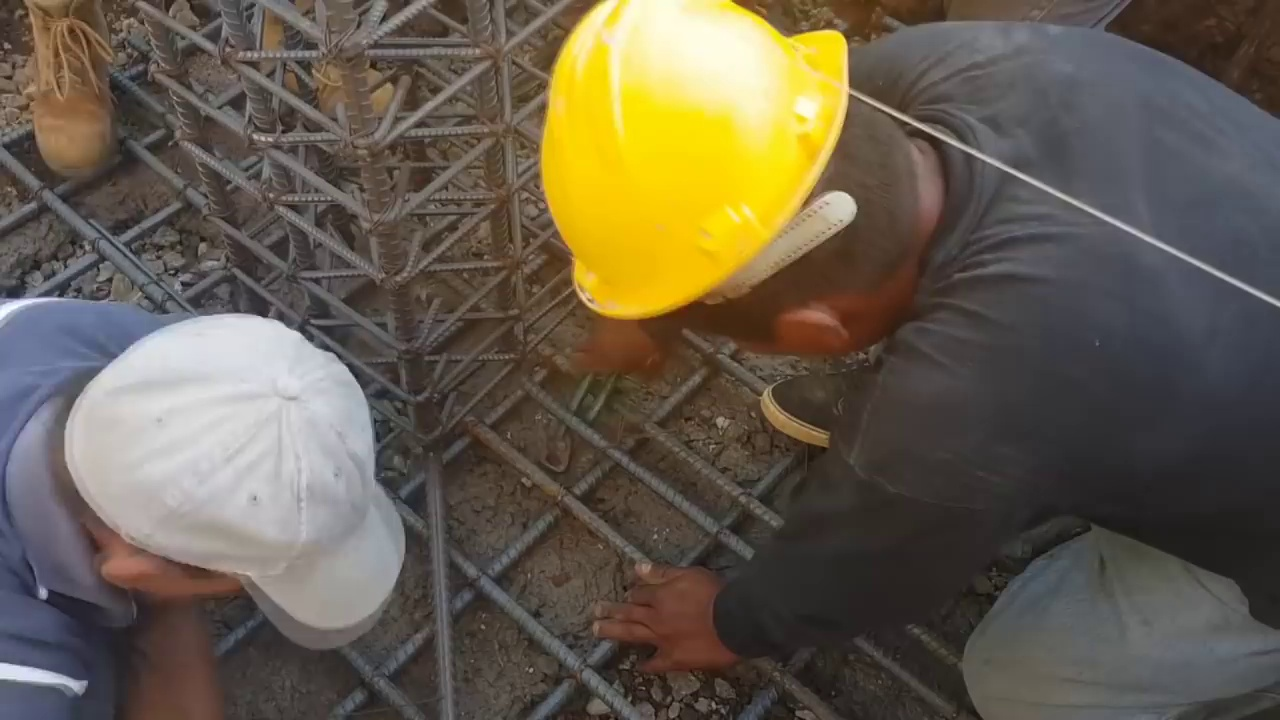helmet: (538, 0, 868, 352)
helmet-off: (45, 315, 386, 658)
helmet-on: (530, 6, 962, 393)
person: (528, 0, 1280, 720), (2, 288, 416, 720)
